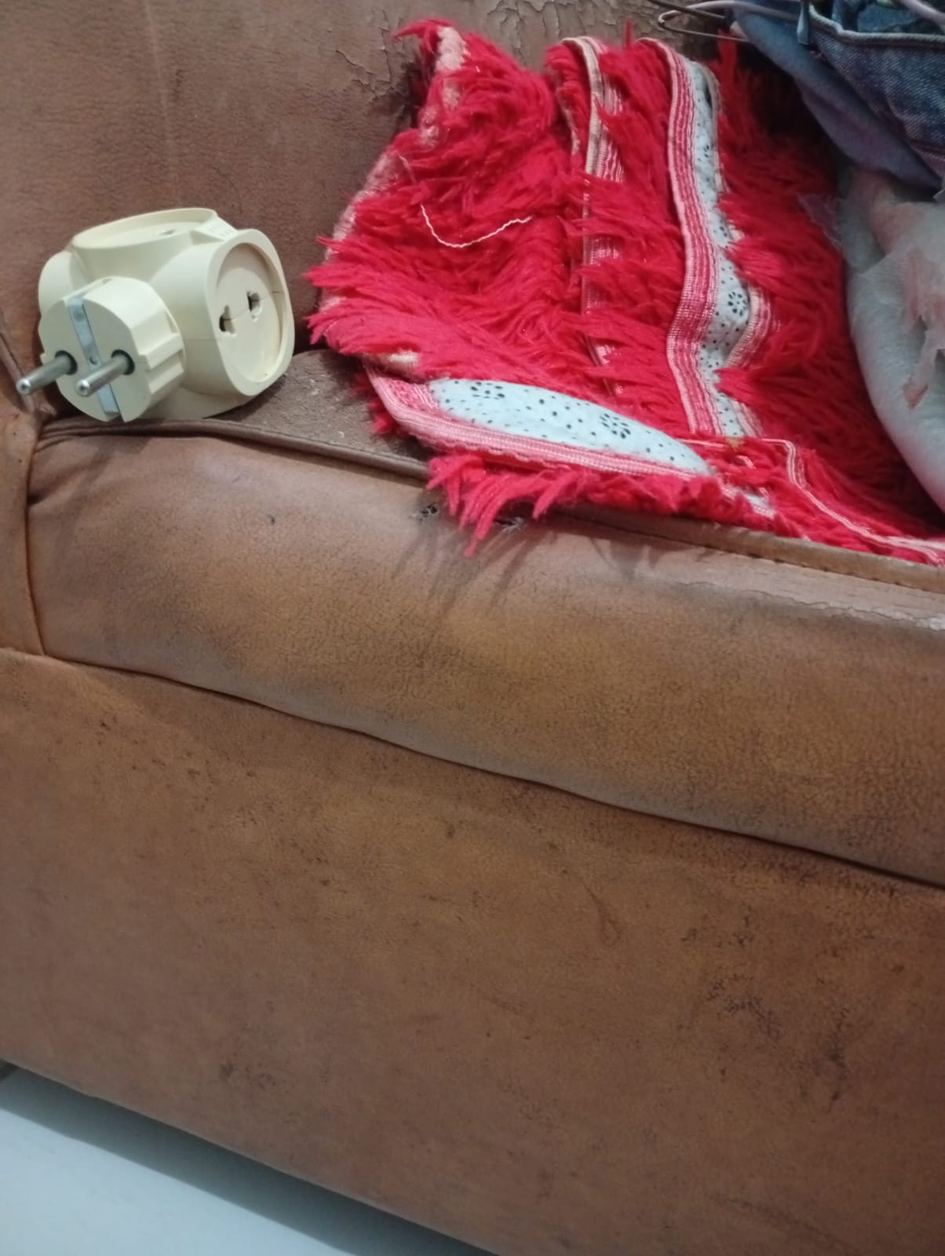Colokan: (13, 196, 321, 454)
